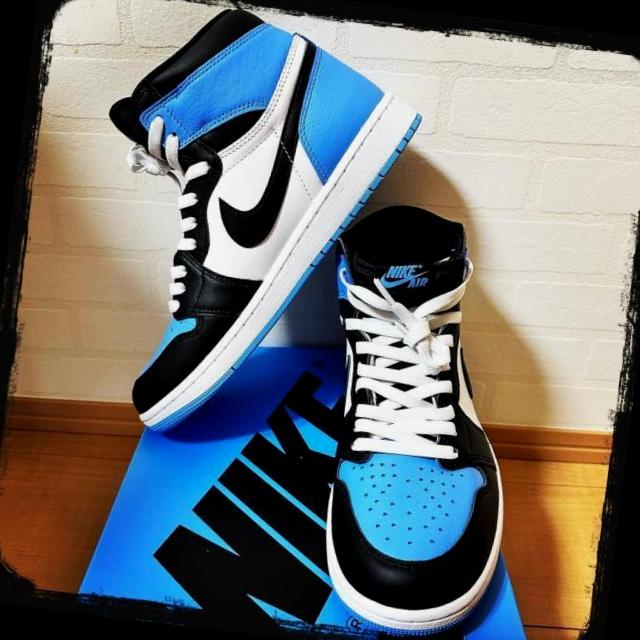nike_original_jordan: (73, 0, 434, 467), (304, 193, 546, 640)
